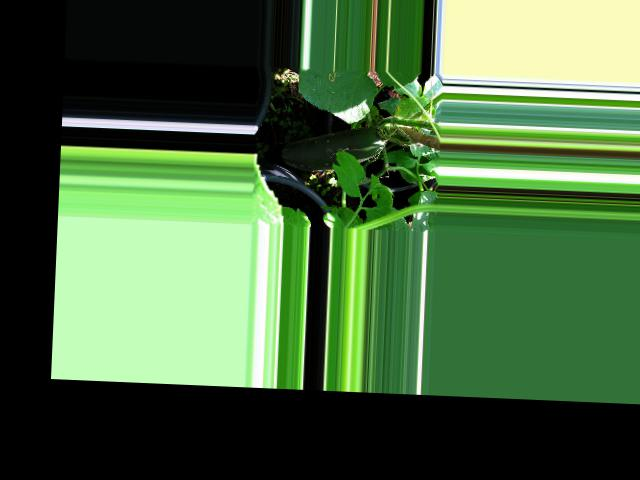cucumber: (281, 122, 387, 174)
